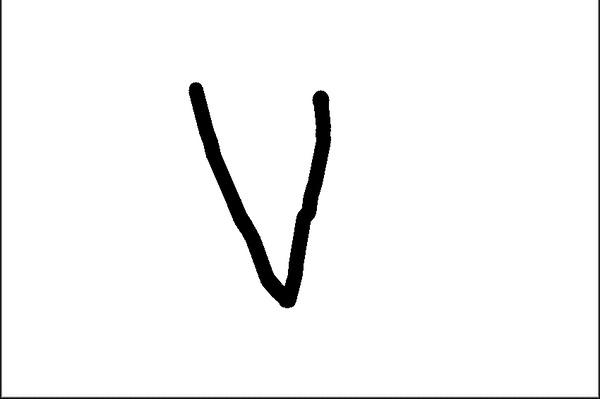V: (171, 62, 347, 311)
